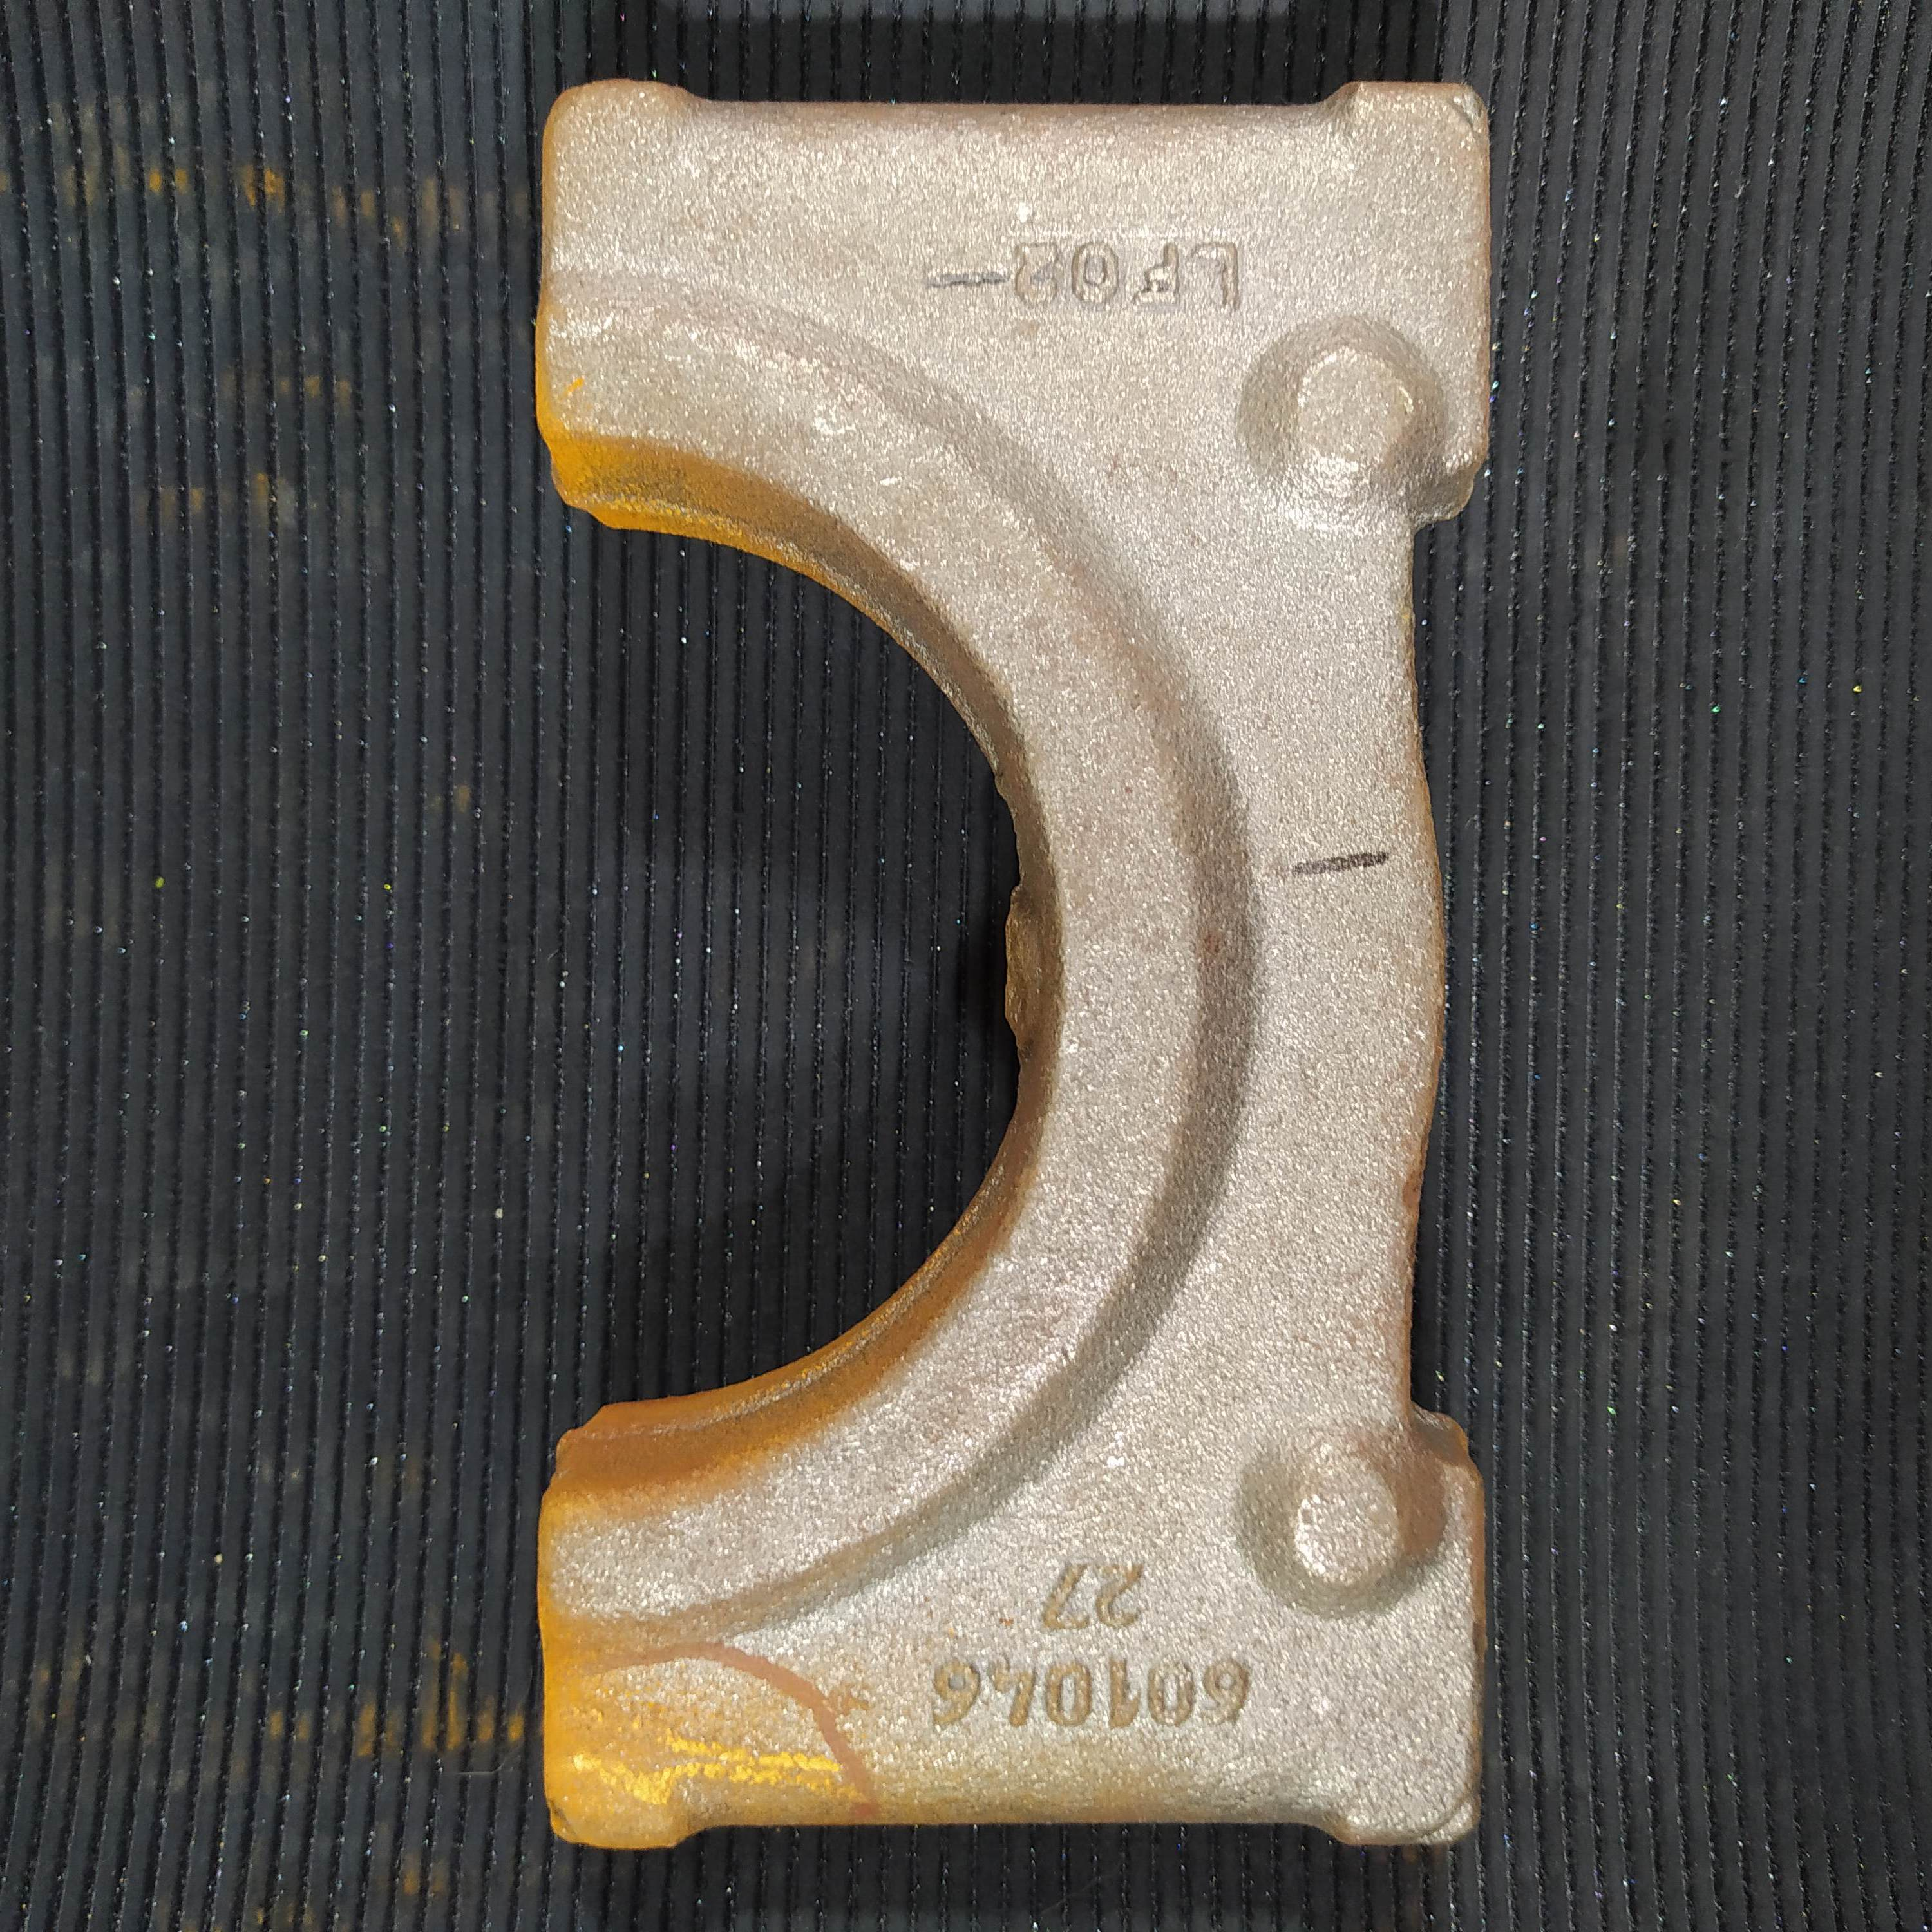rechupe: (1414, 1792, 1483, 1840), (1444, 88, 1488, 143), (543, 1801, 582, 1849)
